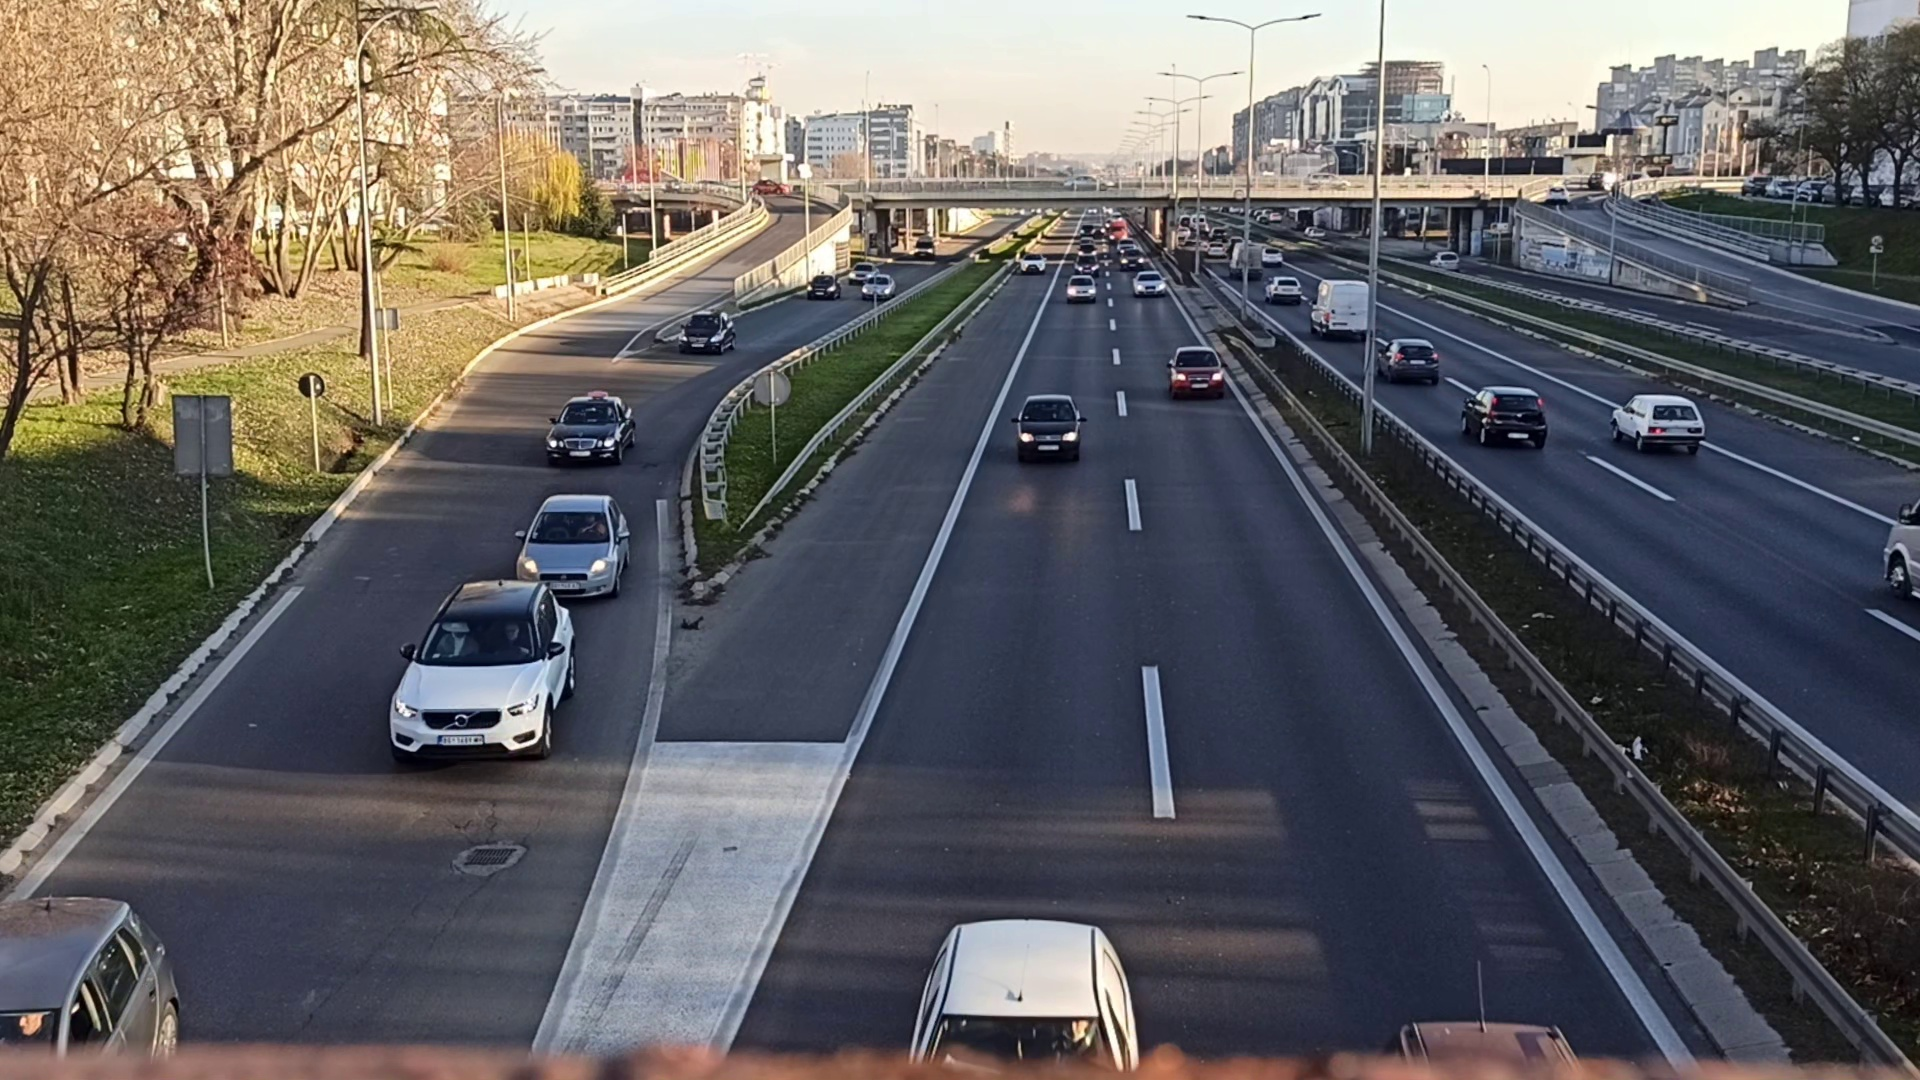car: (388, 585, 575, 761), (516, 483, 630, 603), (543, 386, 634, 471), (1609, 384, 1704, 459), (1462, 377, 1549, 454), (1015, 392, 1087, 459), (1168, 344, 1225, 400), (1378, 338, 1441, 384), (679, 305, 731, 357)
